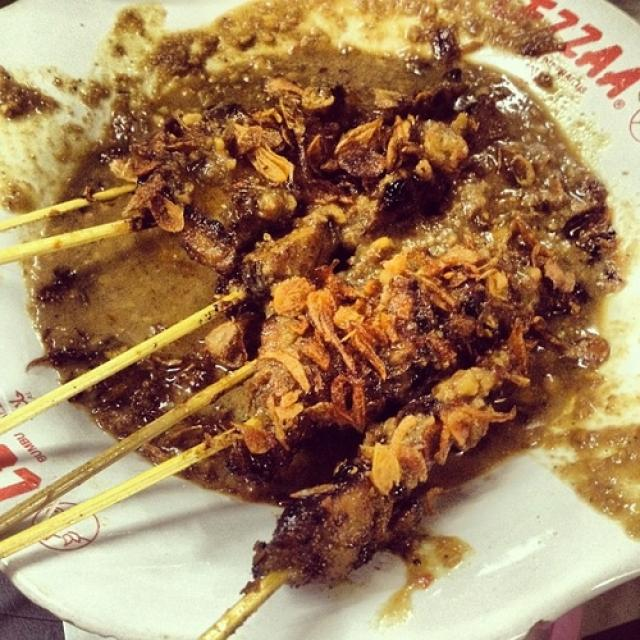牛肉菜式: (5, 3, 627, 604)
